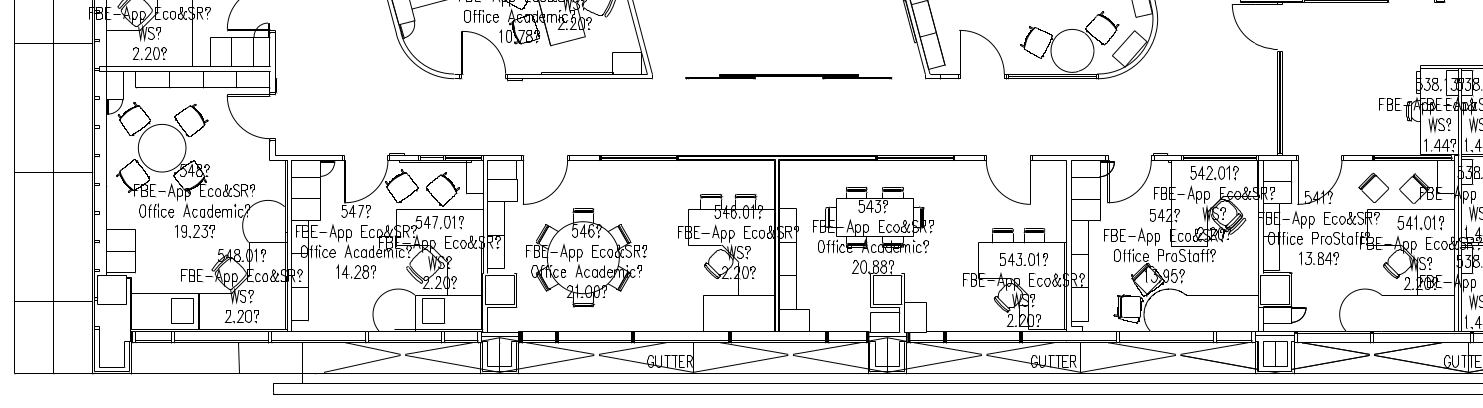door: (951, 20, 1012, 87), (974, 150, 1035, 217), (1100, 145, 1157, 207), (1295, 148, 1352, 210), (1227, 1, 1284, 62), (449, 30, 509, 84), (222, 91, 276, 141), (520, 154, 568, 204), (338, 152, 386, 202)
